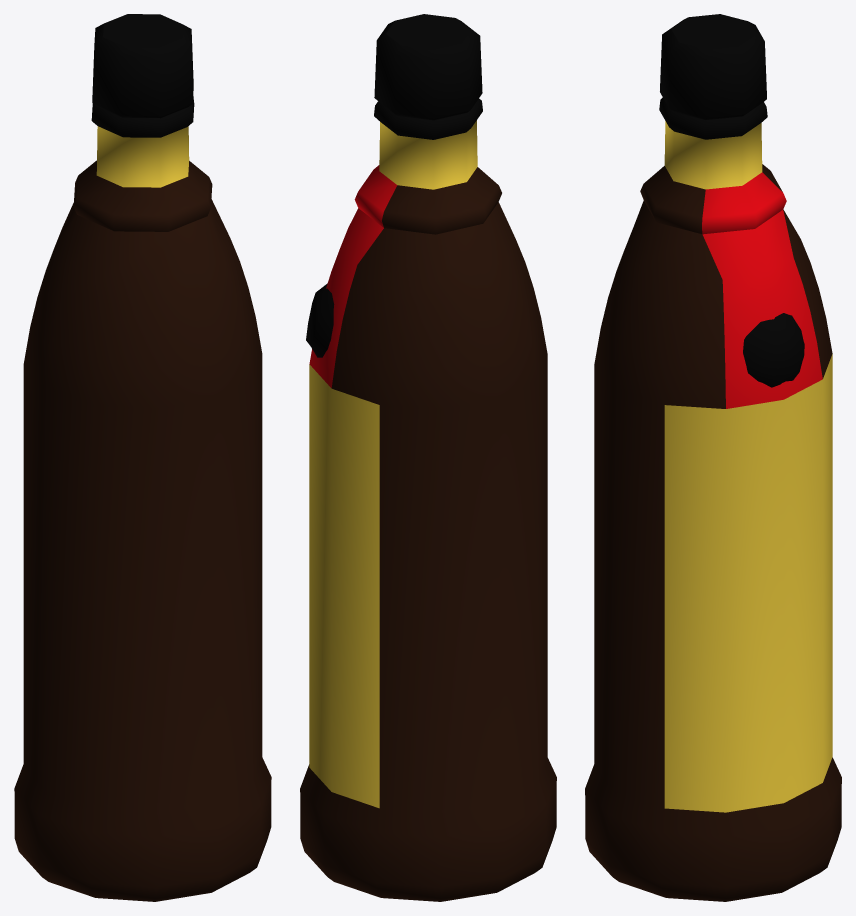
Rendered from RichAndGold.fbx.
3 views of the same model, side by side, from view 1: azimuth 30°, elevation 25°; view 2: azimuth 150°, elevation 25°; view 3: azimuth 270°, elevation 25° (orthographic).
Parts seen in each view (by area): view 1: RichAndGold; view 2: RichAndGold; view 3: RichAndGold.
Boxes of the visible parts, x1,y1,x2,y2 form: RichAndGold: [14, 14, 271, 901]; RichAndGold: [300, 14, 556, 901]; RichAndGold: [585, 14, 841, 901].
Size of the model in its own units: 7.32 by 25.82 by 7.32.
